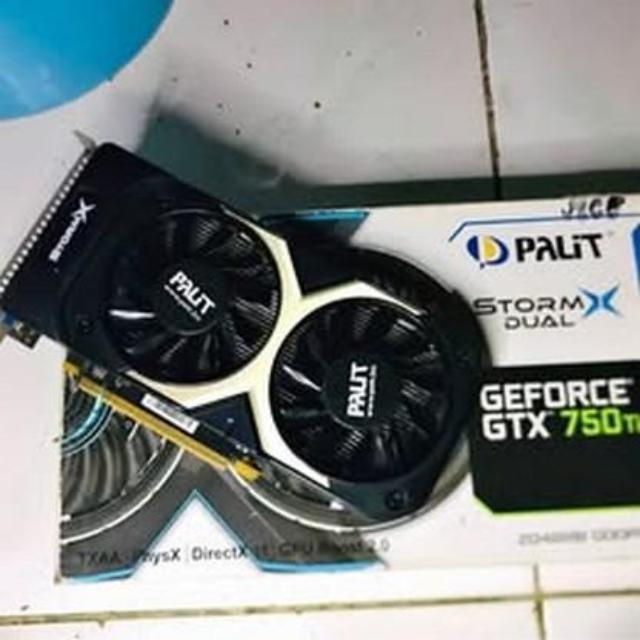GPU: (0, 136, 497, 522)
